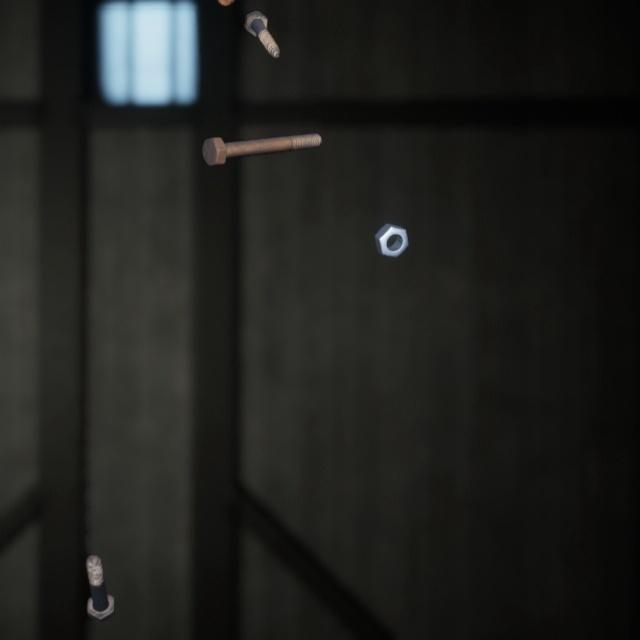bolt: (198, 115, 325, 156), (81, 526, 119, 604), (239, 0, 284, 52)
nut: (370, 203, 413, 247)
